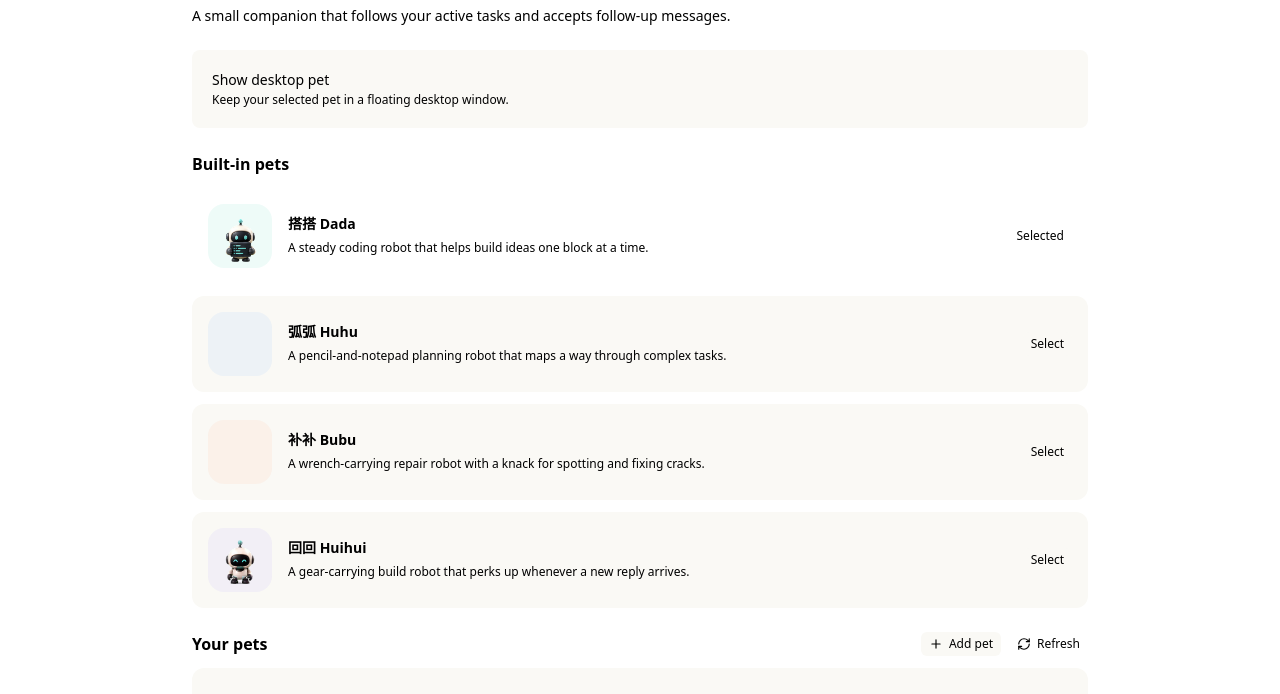
Test case: PetSettings › creates a validated atlas package in app storage and selects it
The width and height of the screenshot is (1280, 694).
Click the button "Add pet": (961, 644) [921, 632, 1001, 656]
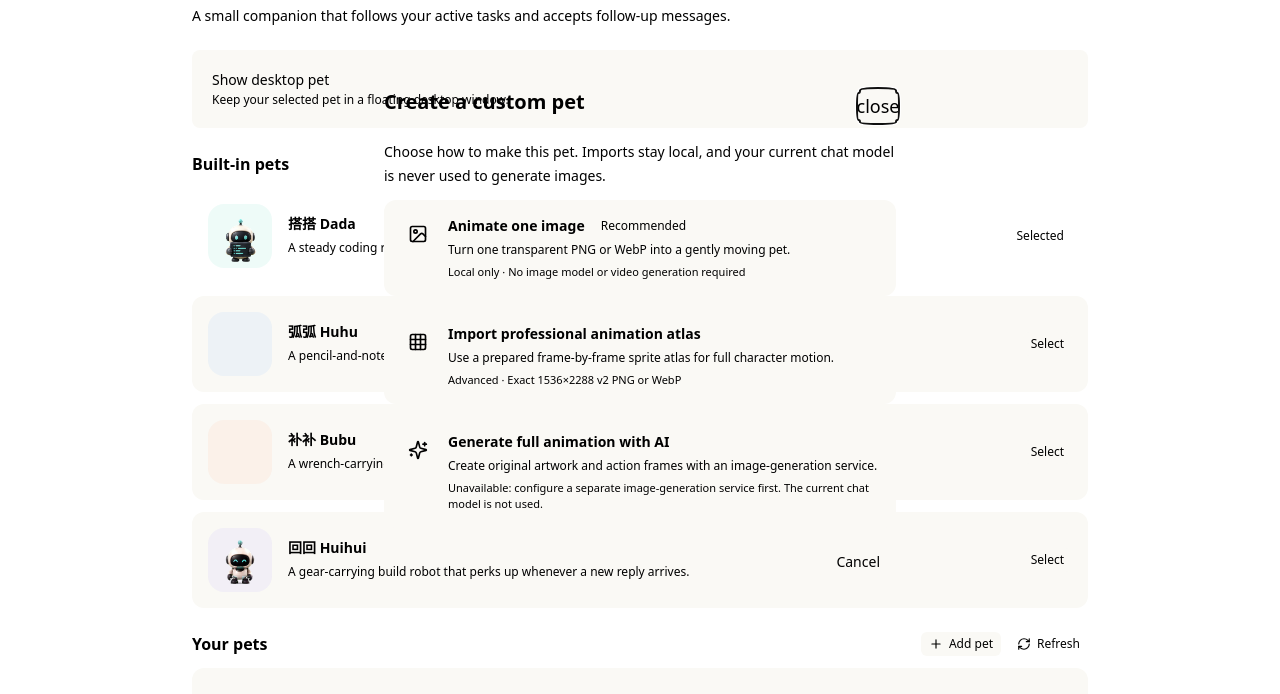
Click the button "Import professional animation atlas": (640, 356) [384, 308, 896, 404]
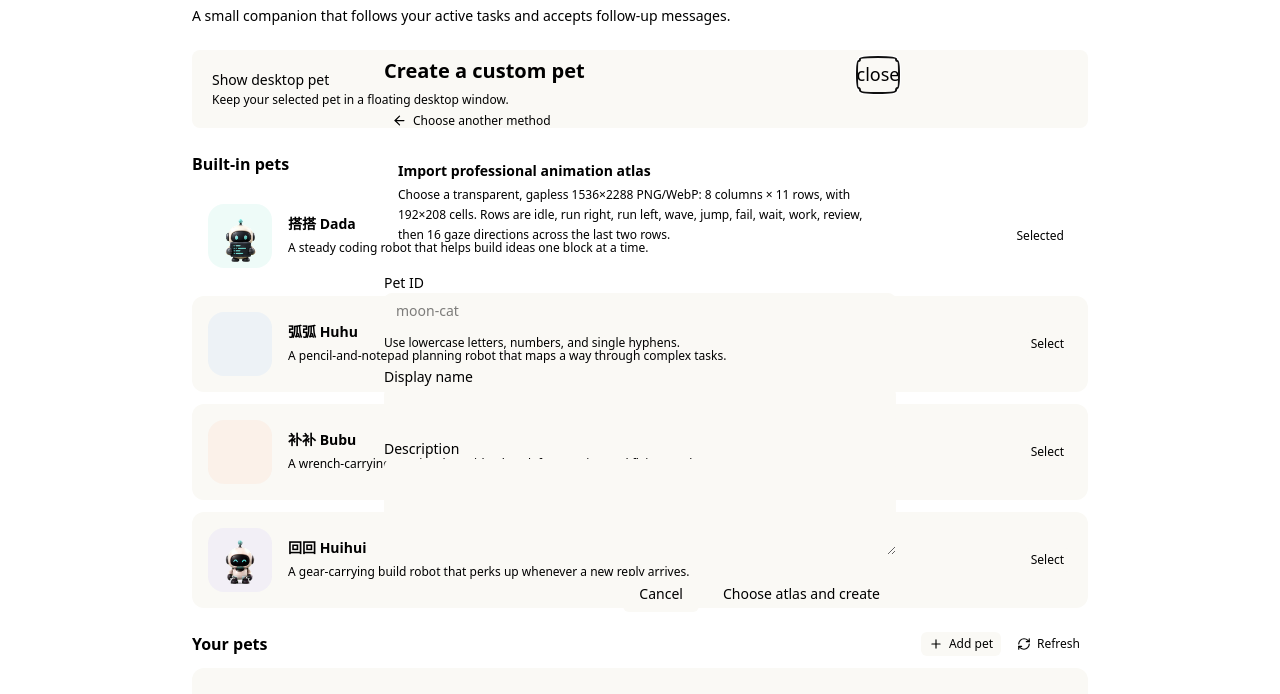
In the field labelled "Pet ID": (640, 310) [384, 292, 896, 328], type "orbit-fox"
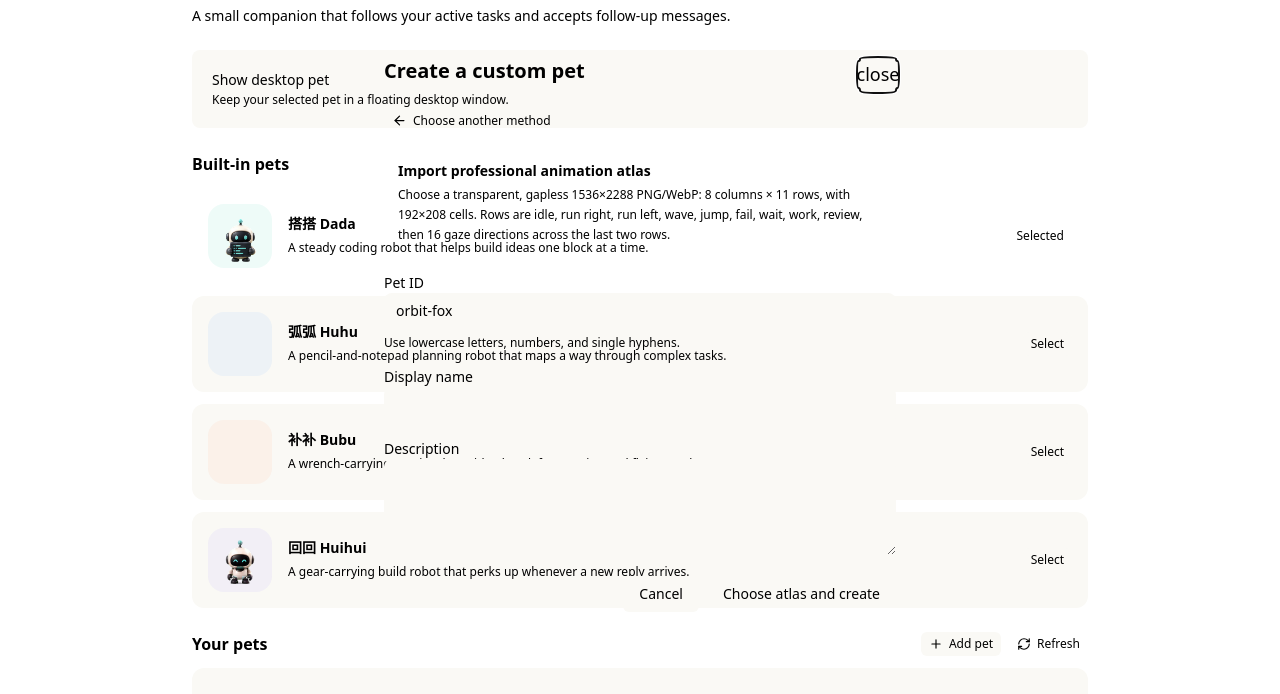
In the field labelled "Display name": (640, 404) [384, 386, 896, 422], type "Orbit Fox"
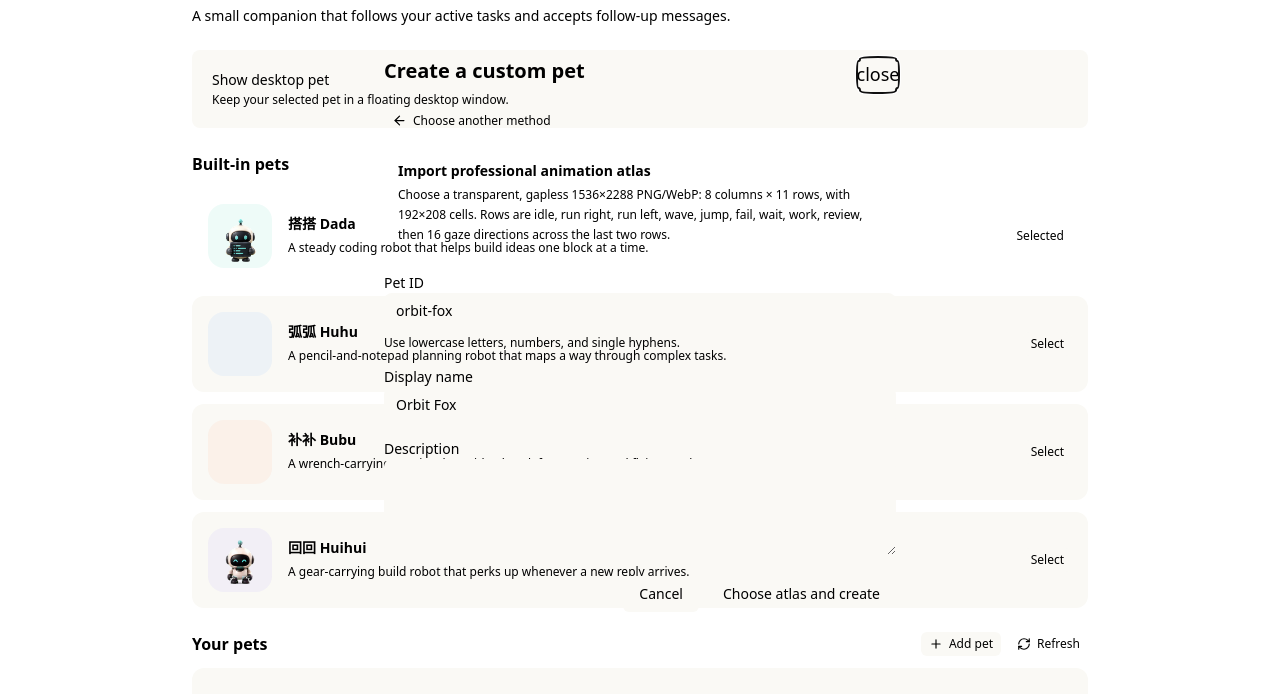
In the text box labelled "Description": (640, 506) [384, 458, 896, 554], type "A bright local companion."
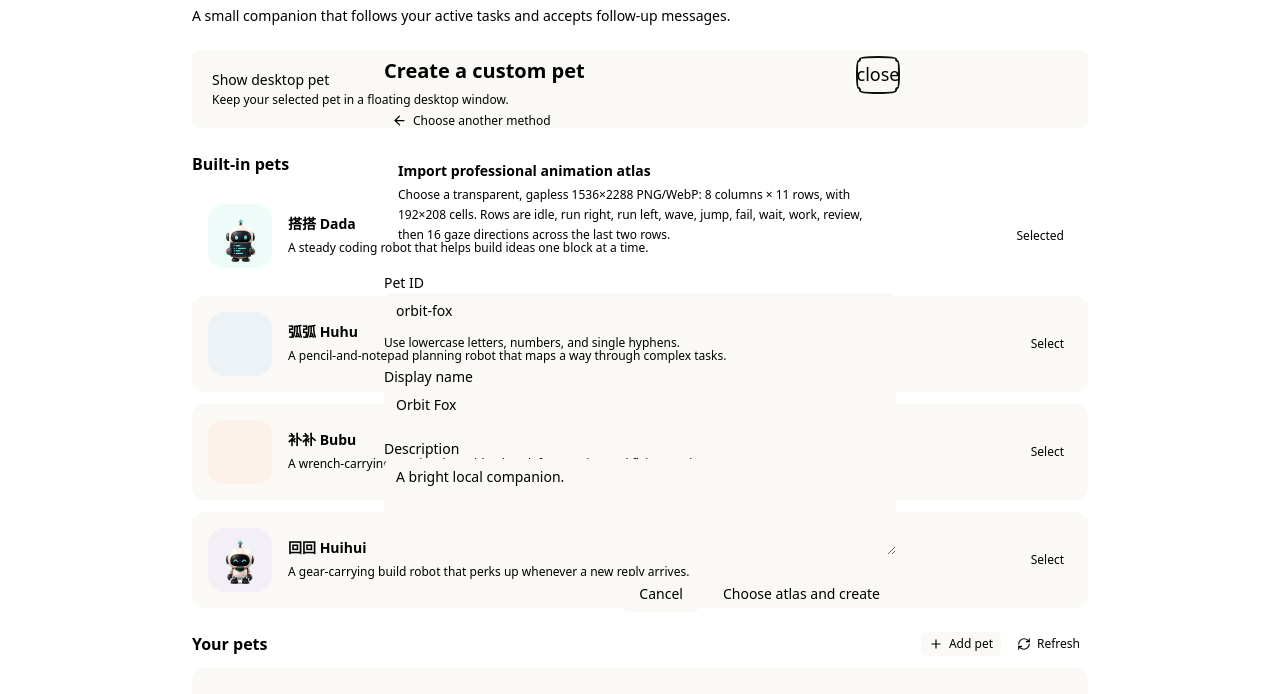
Click the button "Choose atlas and create": (801, 594) [707, 576, 896, 612]
(page scrolled)
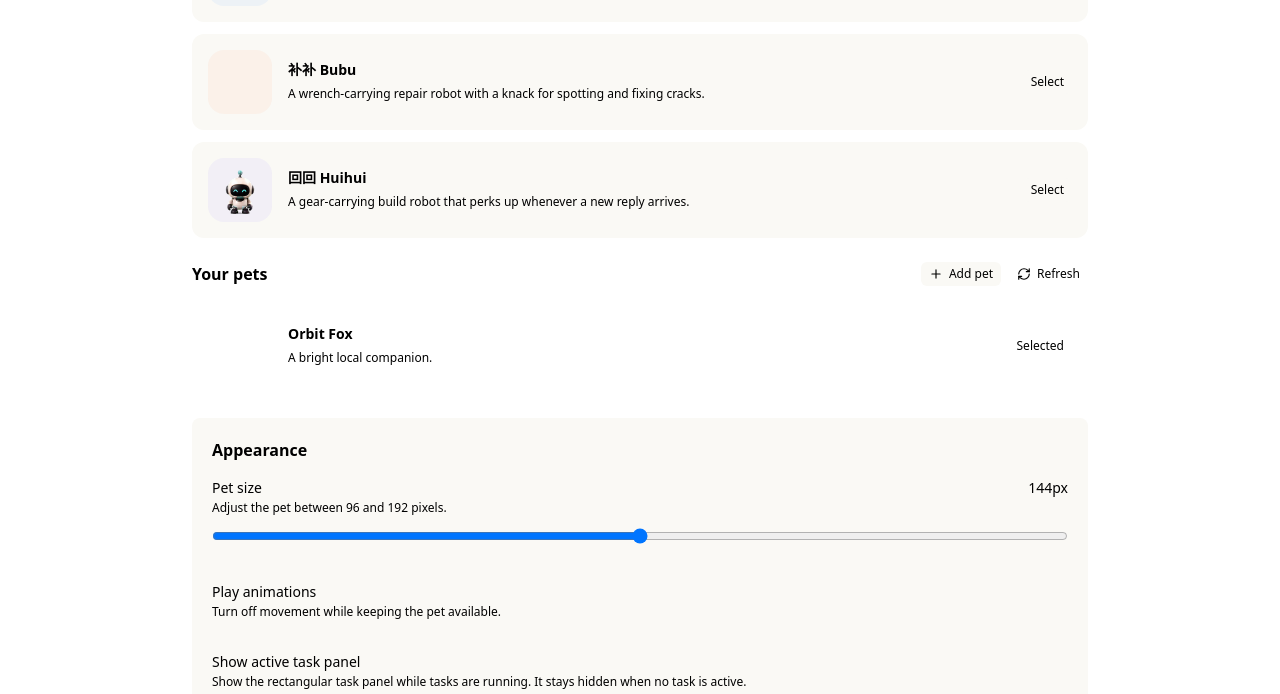
expect the heading "Orbit Fox" is shown: met, box [288, 324, 352, 343]
